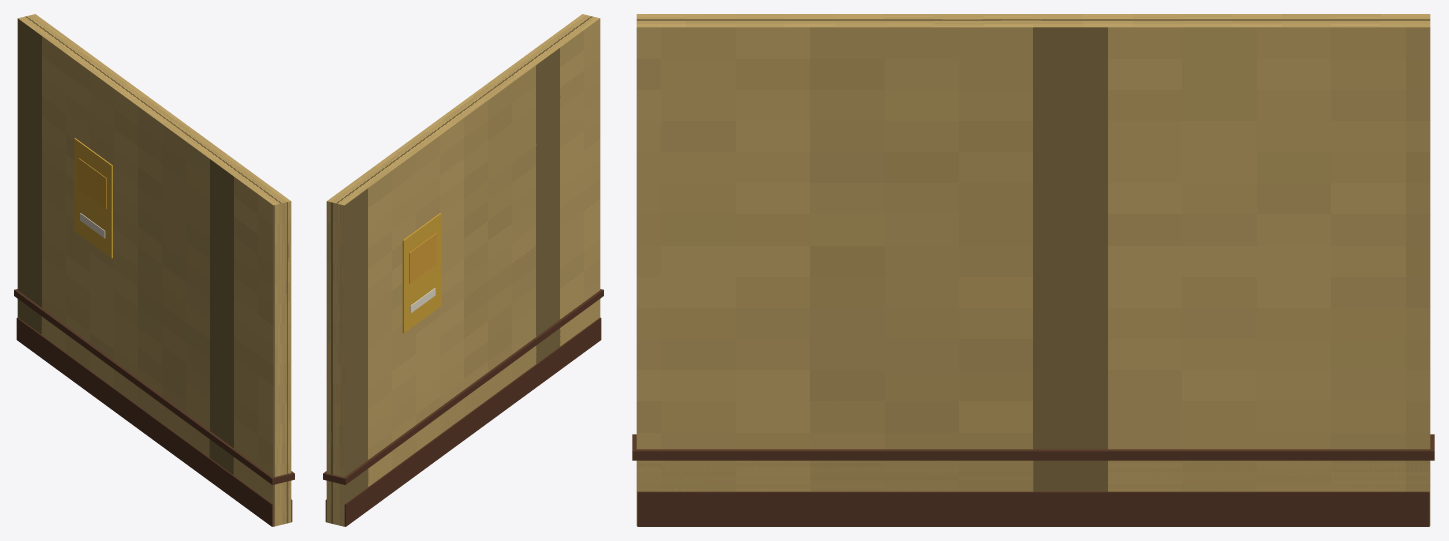
The model's file is back1.glb.
The picture shows the model from 3 angles, left to right: view 1: azimuth 30°, elevation 25°; view 2: azimuth 150°, elevation 25°; view 3: azimuth 270°, elevation 25°; orthographic projection. The views are drawn at different scales.
Visible parts, largest first — view 1: Box1, Box2, Box6, Box3, Box7, Box4; view 2: Box1, Box2, Box3, Box7, Box6, Box4; view 3: Box1, Box2, Box6, Box7.
Boxes of the visible parts, x1=… form: Box1: x1=17, y1=14, x2=291, y2=526; Box2: x1=16, y1=317, x2=292, y2=526; Box6: x1=19, y1=302, x2=291, y2=526; Box3: x1=74, y1=138, x2=112, y2=258; Box7: x1=14, y1=289, x2=294, y2=484; Box4: x1=78, y1=158, x2=106, y2=208; Box1: x1=326, y1=14, x2=600, y2=526; Box2: x1=325, y1=317, x2=601, y2=526; Box3: x1=402, y1=213, x2=441, y2=333; Box7: x1=323, y1=289, x2=603, y2=484; Box6: x1=326, y1=304, x2=598, y2=526; Box4: x1=409, y1=233, x2=436, y2=283; Box1: x1=636, y1=14, x2=1430, y2=525; Box2: x1=637, y1=491, x2=1429, y2=526; Box6: x1=636, y1=460, x2=1430, y2=524; Box7: x1=632, y1=434, x2=1434, y2=460.
Size of the model in its own units: 0.19 by 2.6 by 3.79.
Materials: 5 (1 with a texture image).
